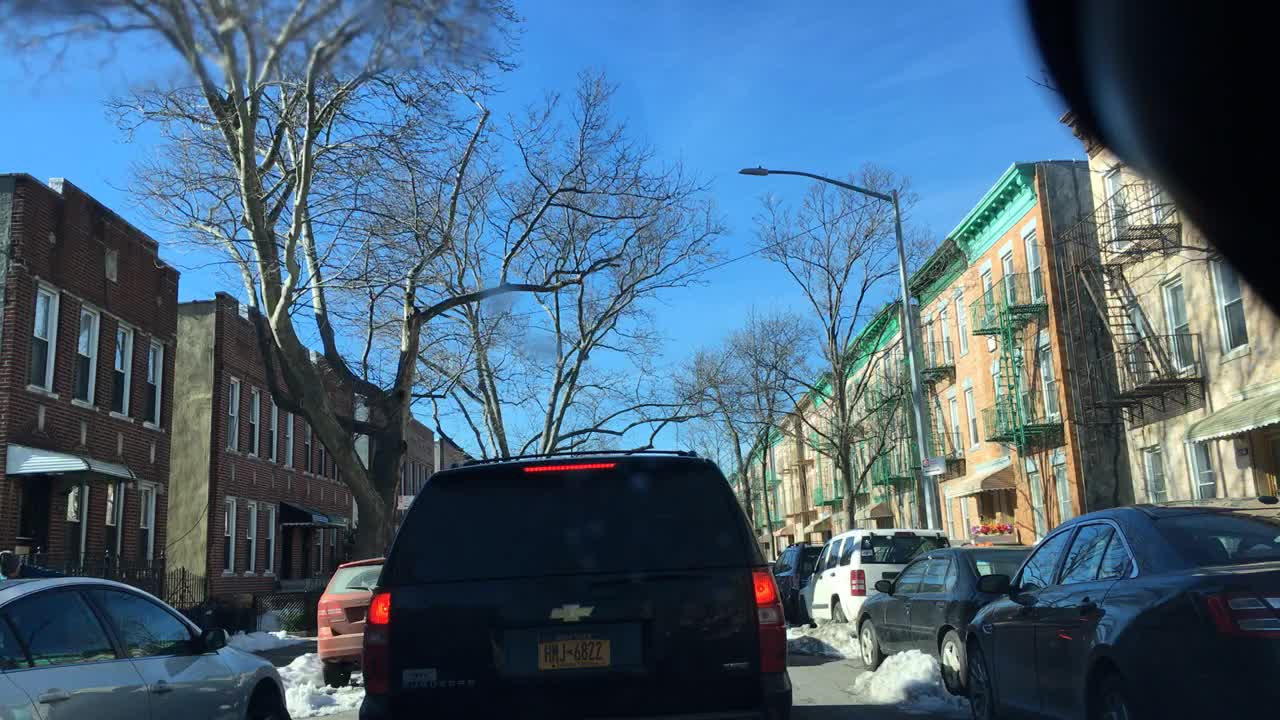car: (356, 447, 793, 718), (960, 501, 1276, 716), (2, 576, 291, 718), (854, 545, 1039, 697), (794, 529, 950, 621), (316, 555, 386, 691), (772, 541, 826, 626)
